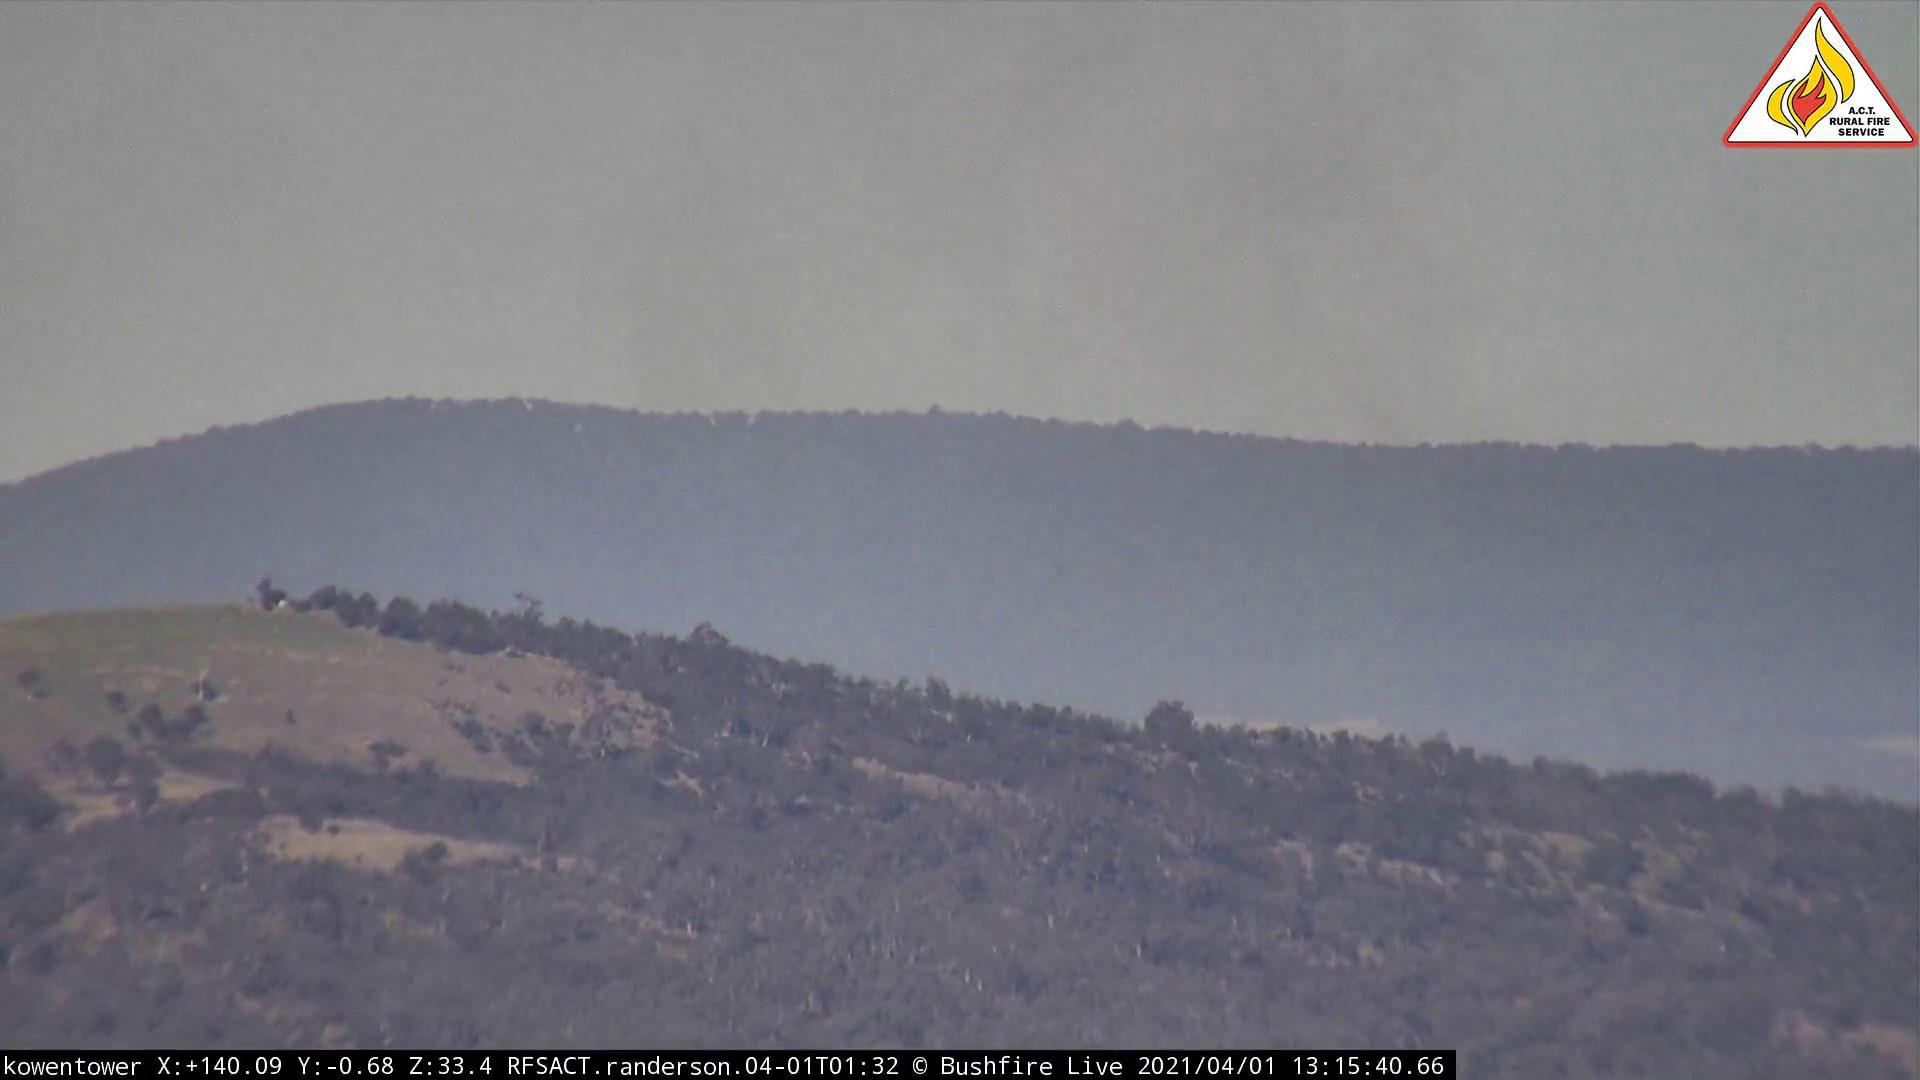Smoke: (505, 3, 1712, 828)
